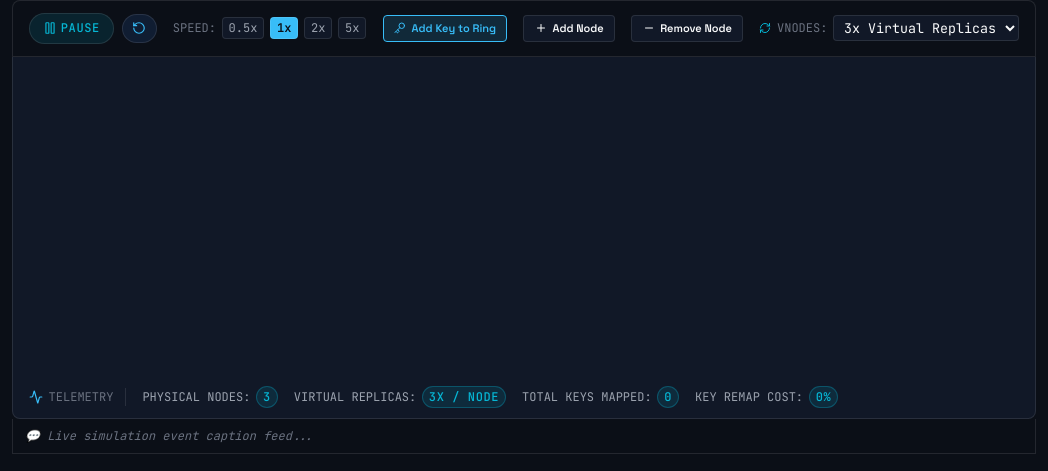
ConsistentHashingVisualizer (Bonus Viz #1) › handles Add Node button click
This screenshot has width=1048, height=471.
Click the button "Add Node" at (569, 28), box [523,15,615,42]
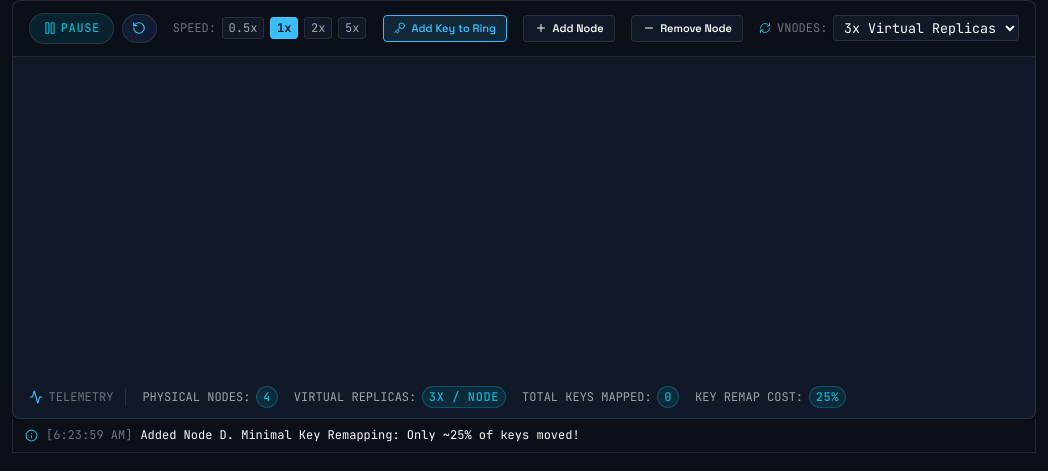
Now the text "Added Node D. Minimal Key Remapping" is shown, box [140,427,580,443]
